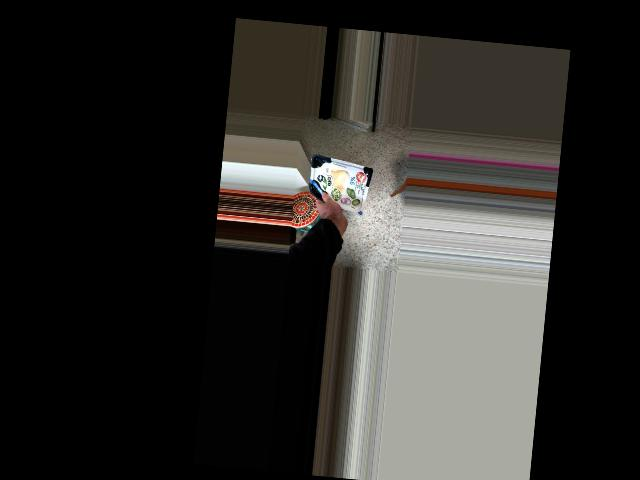cheese: (317, 171, 370, 224)
